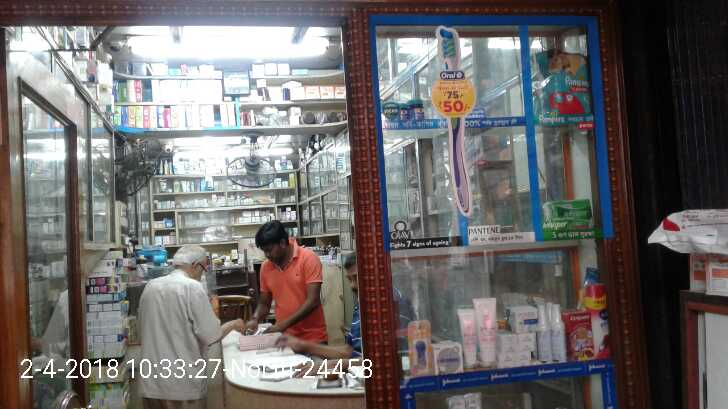vicks: (397, 97, 424, 122)
